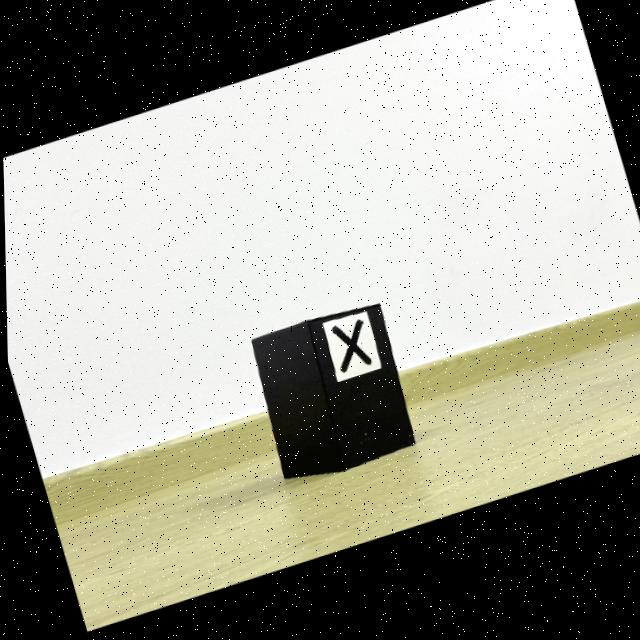X: (330, 322, 371, 376)
